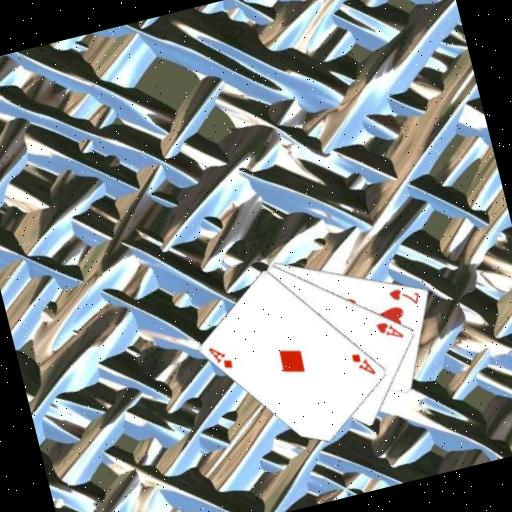7H: (384, 280, 423, 312)
AD: (347, 346, 378, 381), (205, 340, 236, 374)
AH: (373, 315, 407, 345)
